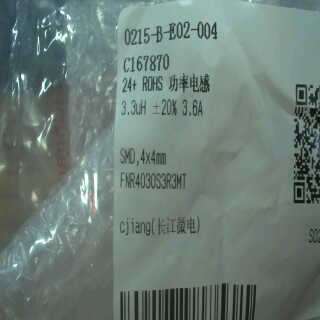3.3uH: (117, 96, 153, 122)
